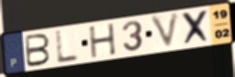3: (120, 20, 144, 54)
B: (24, 32, 52, 69)
H: (87, 22, 118, 60)
L: (55, 28, 82, 65)
V: (148, 11, 182, 52)
X: (180, 7, 212, 47)
